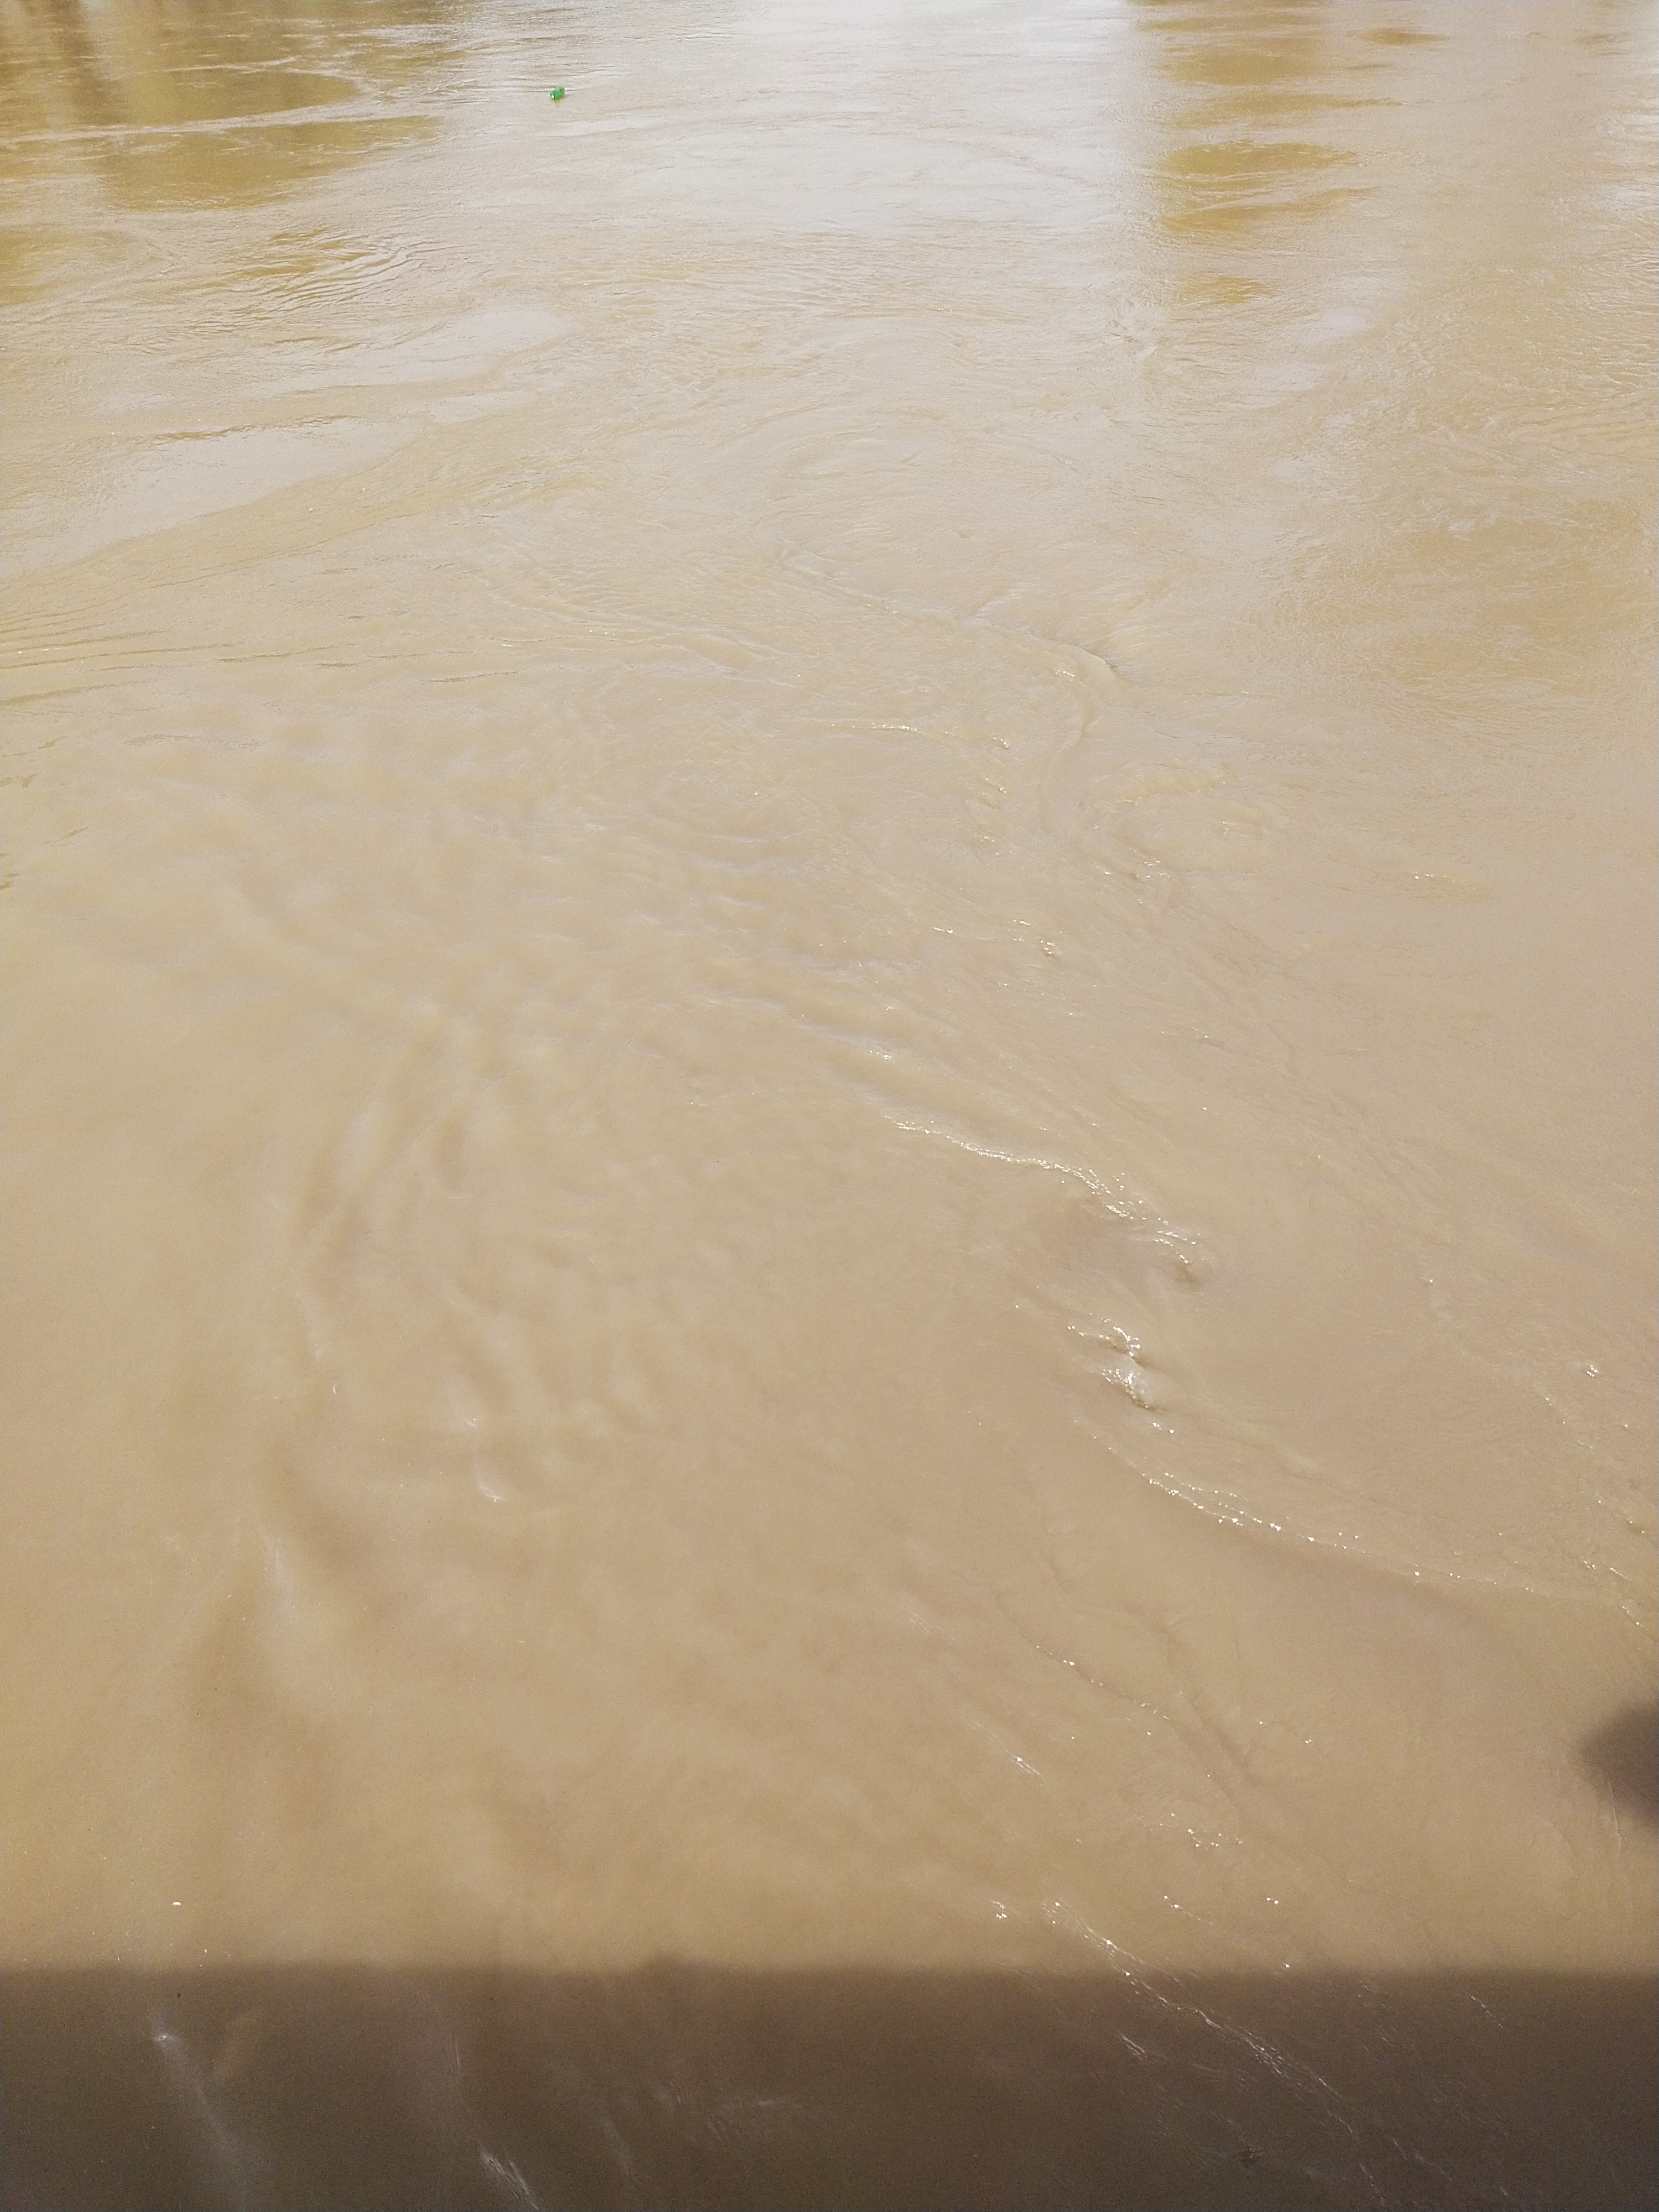Plastic Bottle: (551, 85, 565, 99)
